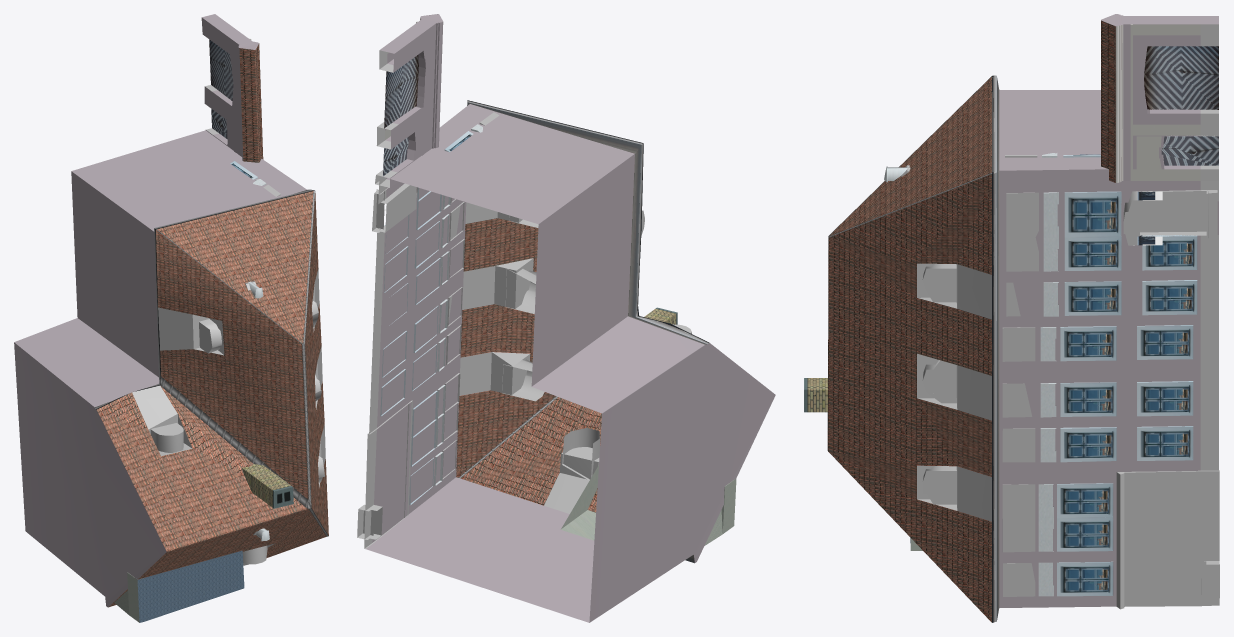
The model's file is Uus_5-origo.obj.
The picture shows the model from 3 angles, left to right: view 1: azimuth 30°, elevation 25°; view 2: azimuth 150°, elevation 25°; view 3: azimuth 270°, elevation 25°; orthographic projection. The views are drawn at different scales.
Visible parts, largest first — view 1: Uus_tn_5, xxx; view 2: Uus_tn_5, xxx; view 3: Uus_tn_5, xxx.
Part boxes in pixels (x1,y1,x2,y2): Uus_tn_5: (14,17,328,622); xxx: (14,14,252,622); Uus_tn_5: (357,14,733,622); xxx: (380,19,775,622); Uus_tn_5: (804,14,1219,622); xxx: (1123,16,1218,24).
Bounding box in the file's own units: 13.94 × 27.5 × 17.1.
